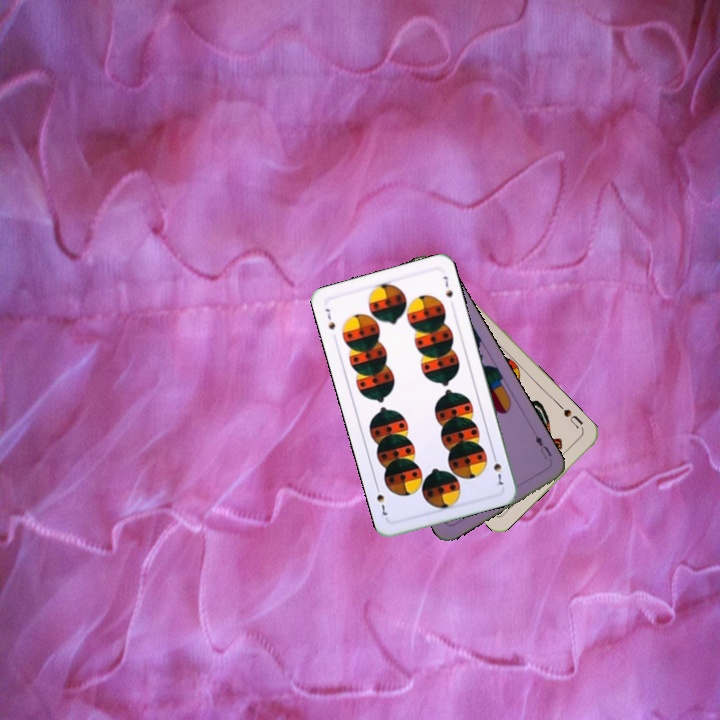EU: (531, 431, 555, 462)
S7: (489, 449, 505, 488), (321, 304, 338, 332)
SU: (559, 405, 586, 431)
